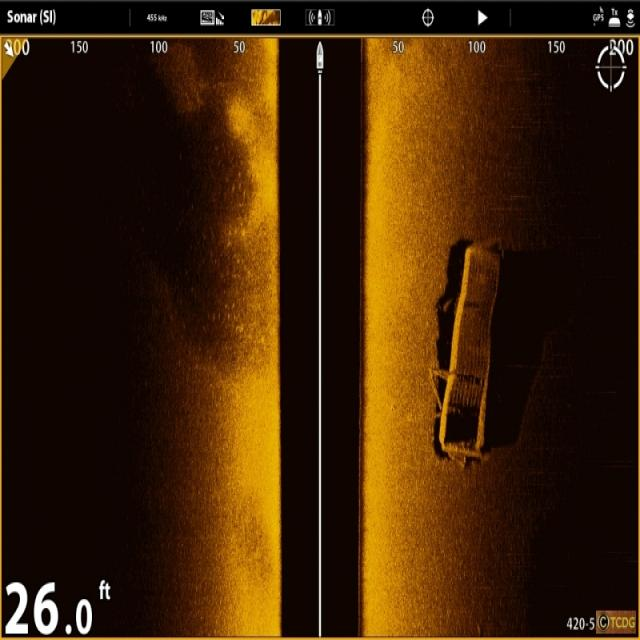ship: (434, 243, 498, 470)
